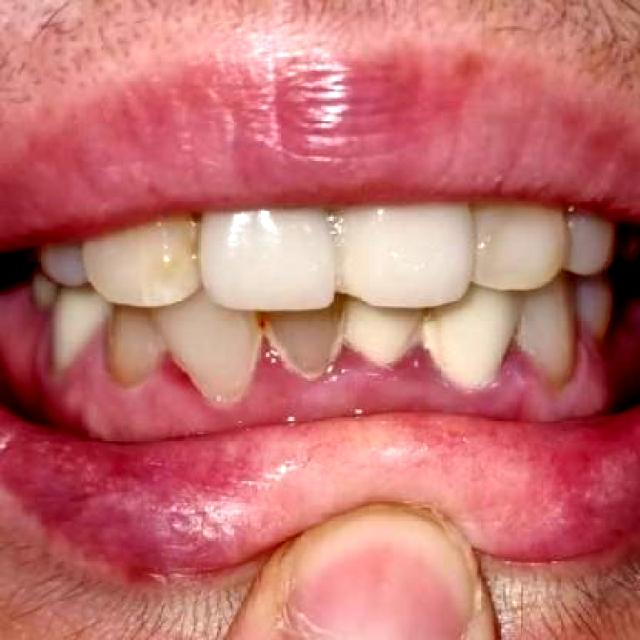Plaque: (219, 333, 550, 418), (130, 353, 206, 407), (62, 326, 113, 386)
